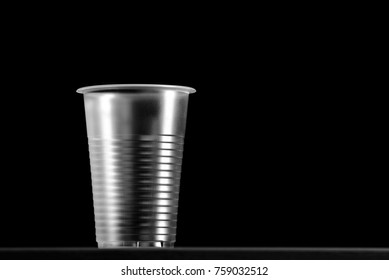plastic_glass: (70, 77, 200, 255)
